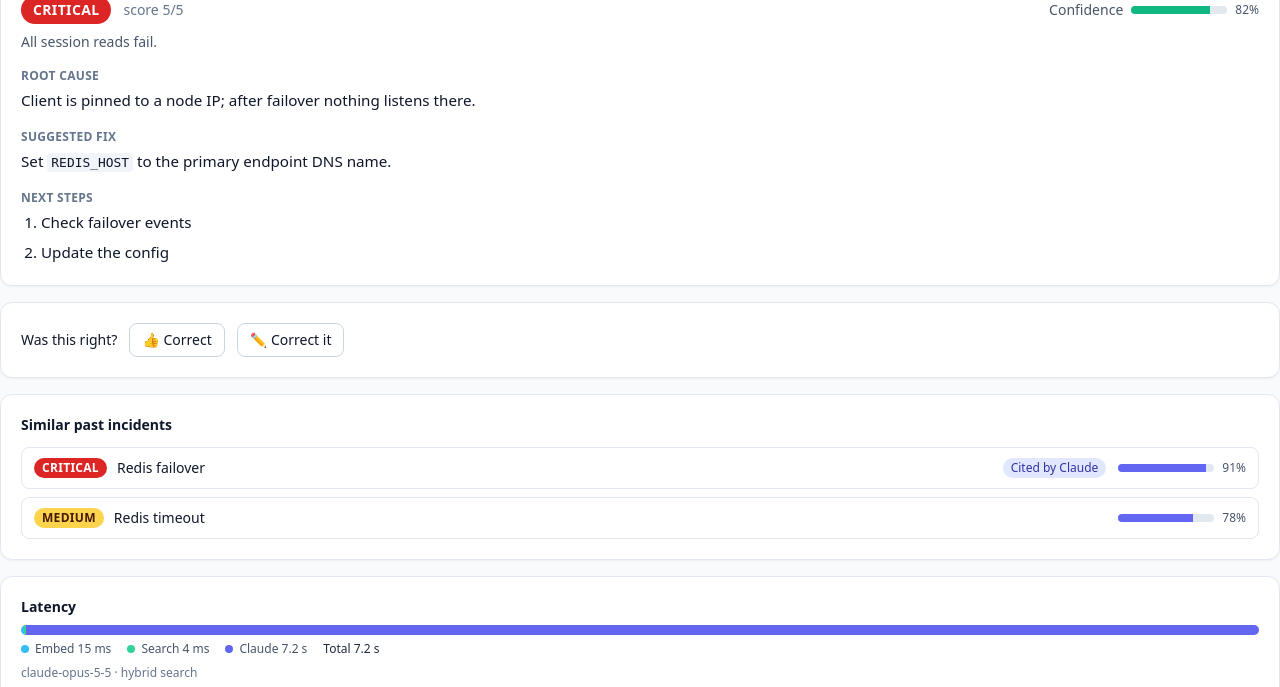
Test: Feedback › needs root cause and fix before a correction can be added to the library
The image size is (1280, 687).
Click the button "✏️ Correct it" at (291, 340), box [237, 323, 344, 357]
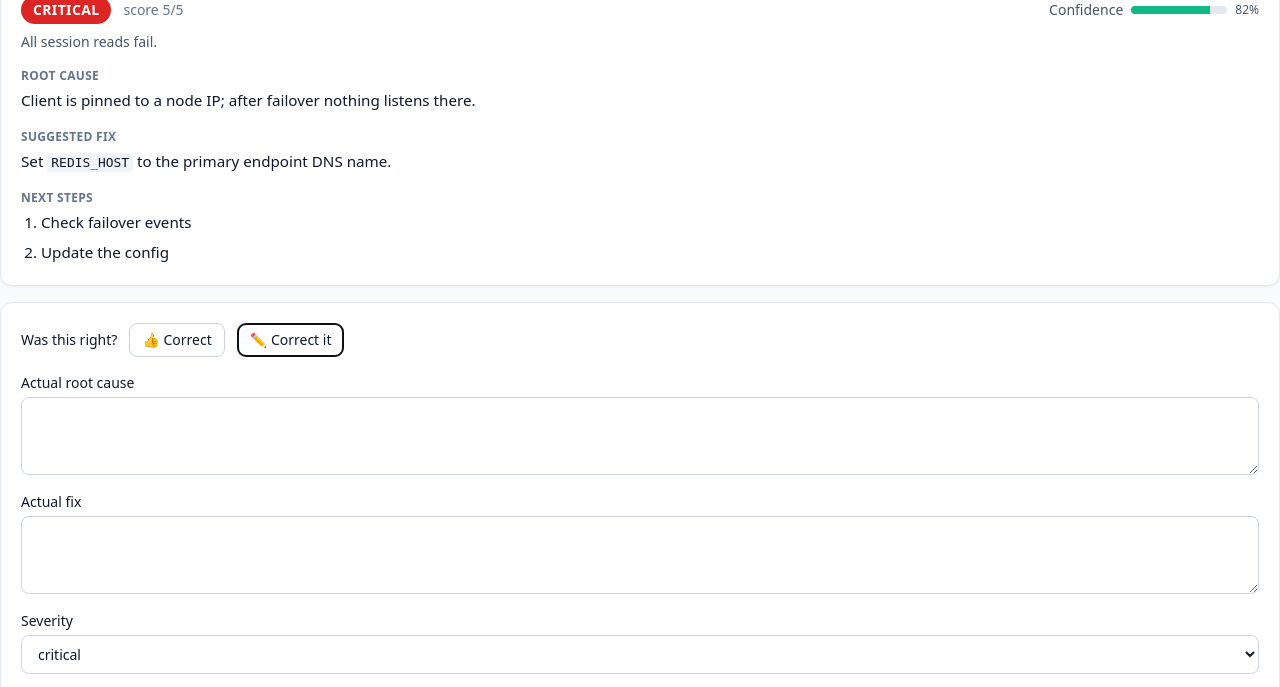
Type "Security group blocked 6379" into the text box labelled "Actual root cause" at (640, 436), box [21, 397, 1259, 475]
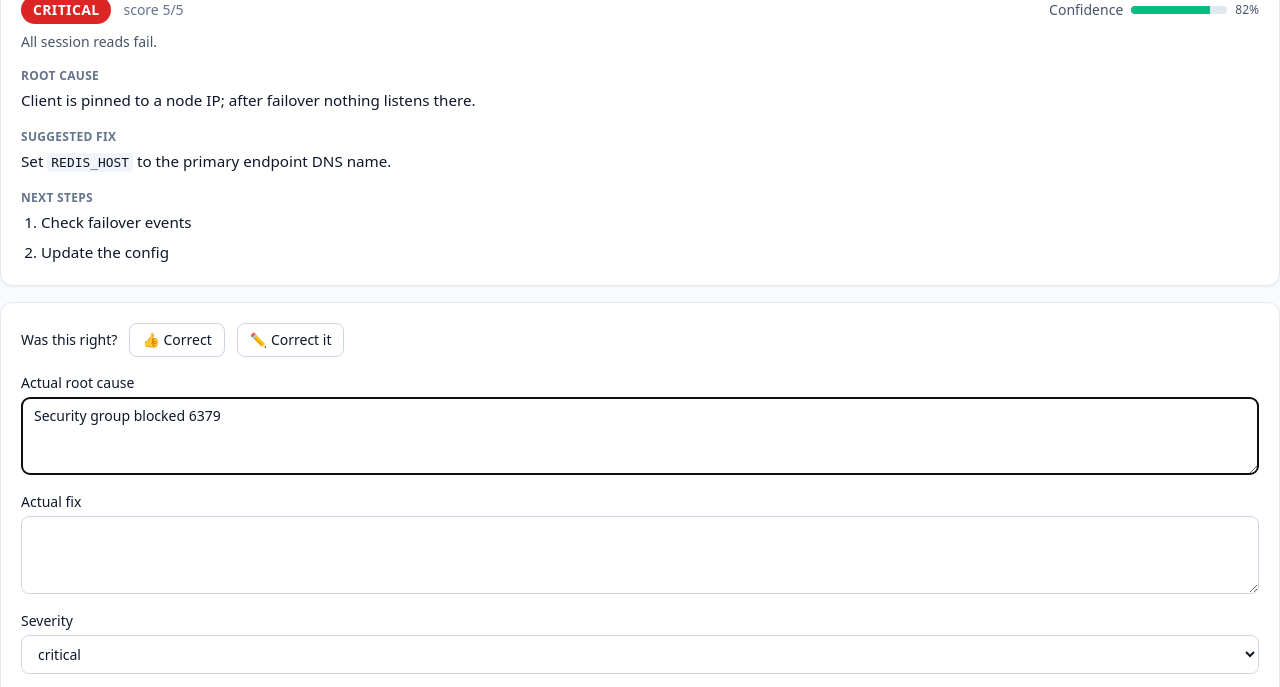
Type "Re-open port 6379" into the text box labelled "Actual fix" at (640, 555), box [21, 516, 1259, 594]
(page scrolled)
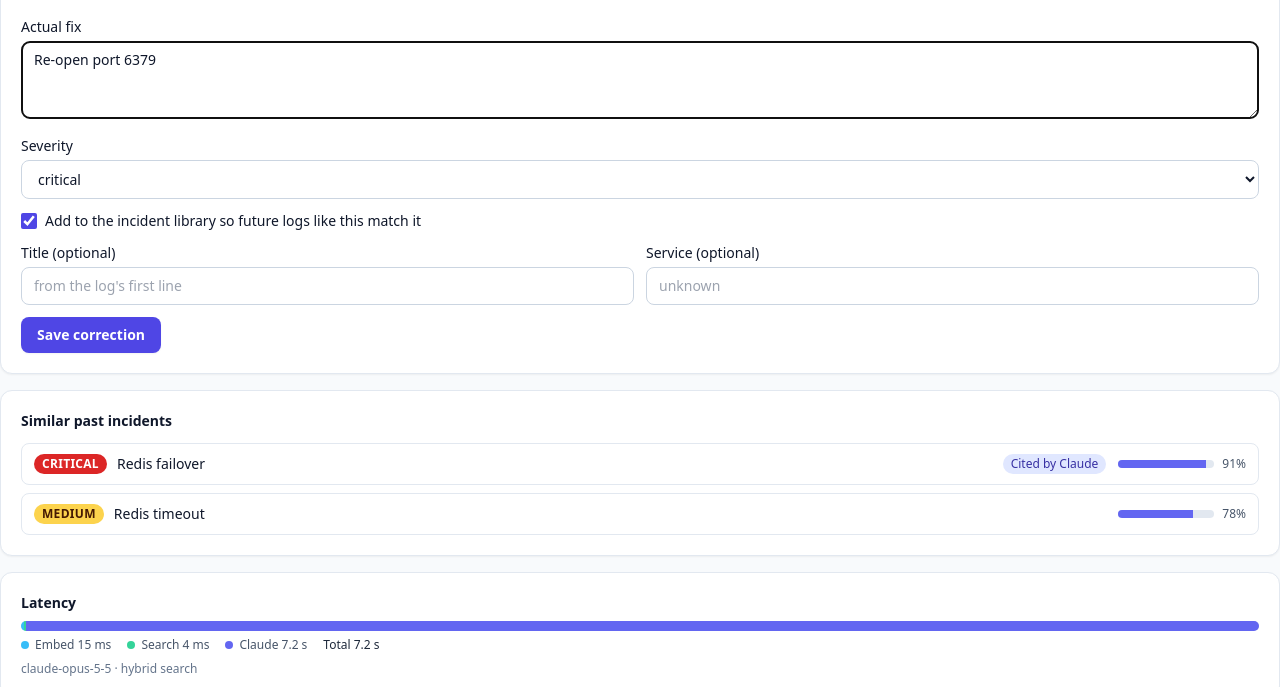
Expected: the button "Save correction" is enabled, [21, 317, 161, 353]
